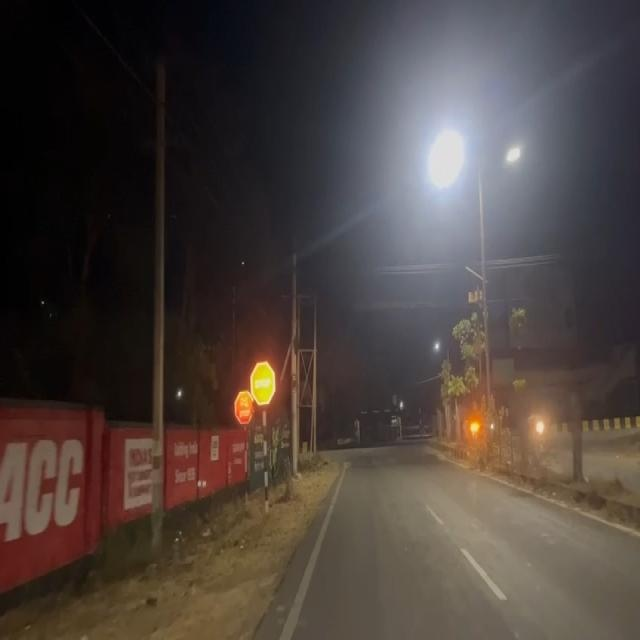bien_nguy_hiem: (251, 360, 276, 407), (234, 388, 255, 428)
